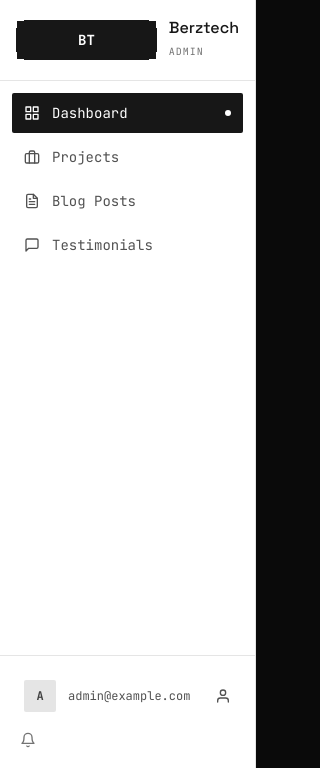
AdminSidebar › renders user menu when clicked
The image size is (320, 768).
Click the button "A admin@example.com": {"x": 128, "y": 696} [12,668,243,724]
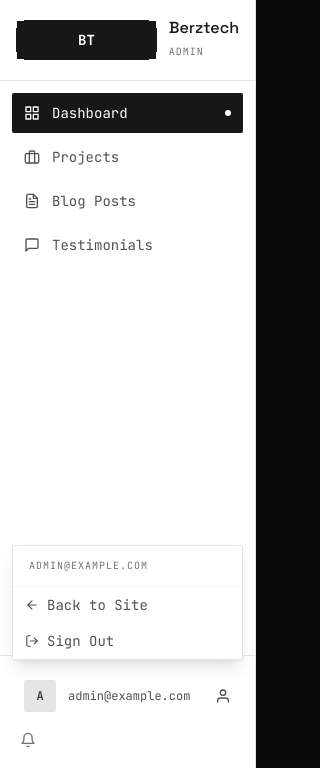
Check: the button "Sign Out" is shown, box [13,623,242,659]
Check: the link "Back to Site" is shown, box [25,596,148,614]
